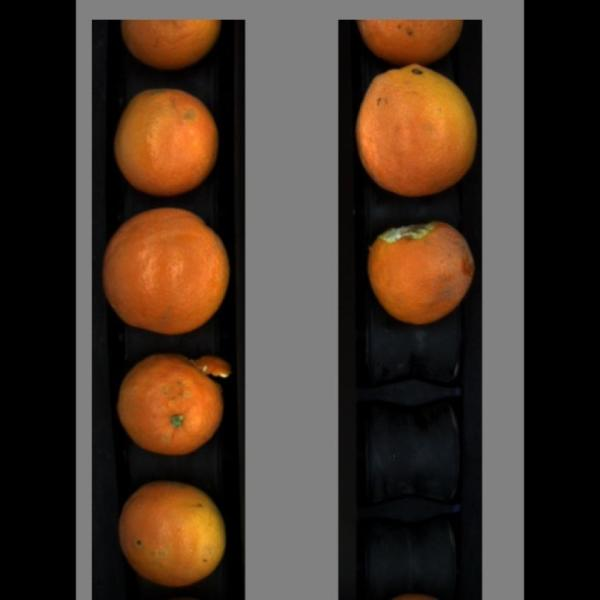Otros defectos: (98, 209, 236, 337), (110, 82, 226, 207), (108, 344, 236, 455), (366, 215, 480, 331), (116, 477, 231, 591)
Sana: (348, 62, 477, 199), (119, 22, 225, 73), (358, 16, 470, 60)
